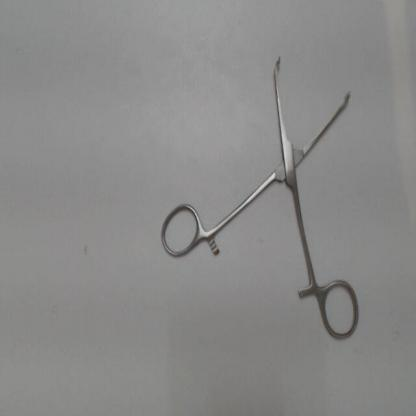Allis Tissue Forceps: (156, 49, 366, 352)
